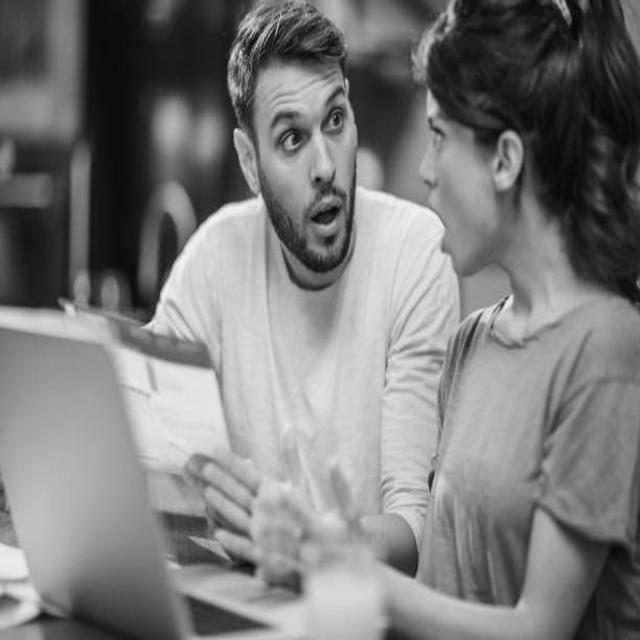Surprised: (253, 64, 359, 274), (419, 76, 511, 282)
